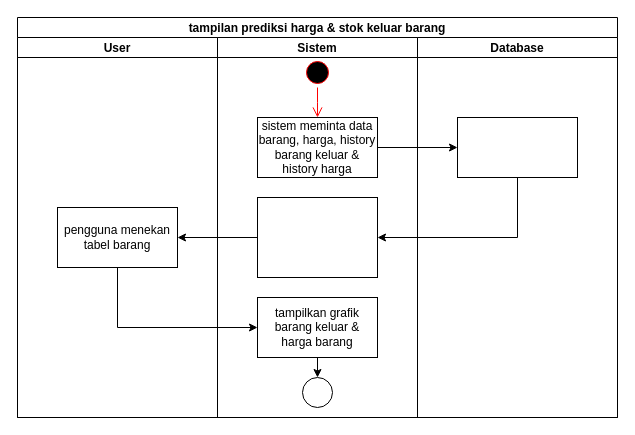
This 635x435 diagram has some shape labels left out. Here are the shapes that lost their labels. From the top down, the centre of each, then its label:
the point at 517,147: mengambil data barang, harga, history barang & history harga
the point at 317,237: Proses data yang di ambil untuk menampilkan grafik dan data barang & harga
